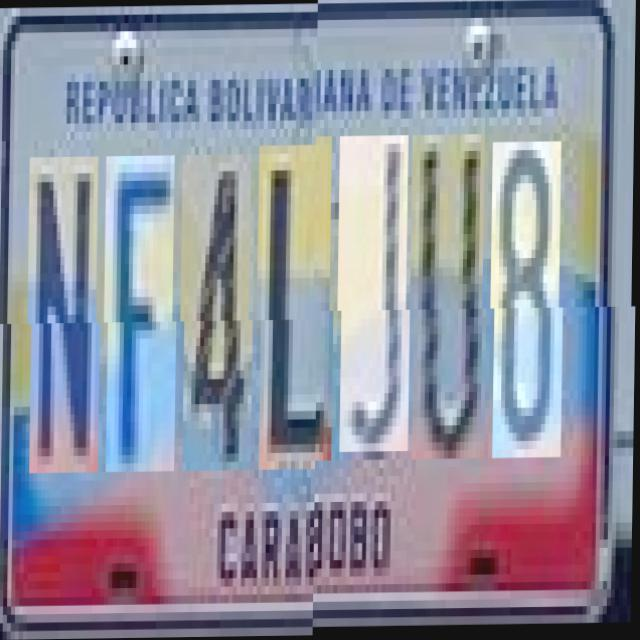4: (184, 155, 256, 472)
8: (494, 152, 566, 468)
F: (108, 156, 180, 473)
J: (341, 144, 413, 462)
L: (260, 146, 336, 470)
N: (31, 156, 103, 474)
U: (414, 144, 489, 468)
